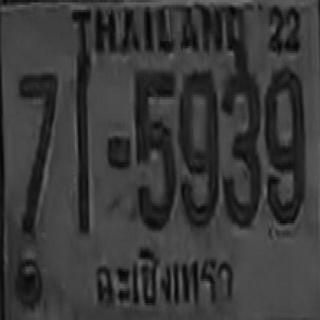N03: (221, 67, 260, 224)
N05: (133, 69, 175, 229)
N07: (17, 70, 58, 233), (17, 70, 58, 182)
N09: (263, 66, 305, 223), (178, 68, 218, 226)
P07: (91, 248, 241, 314)
